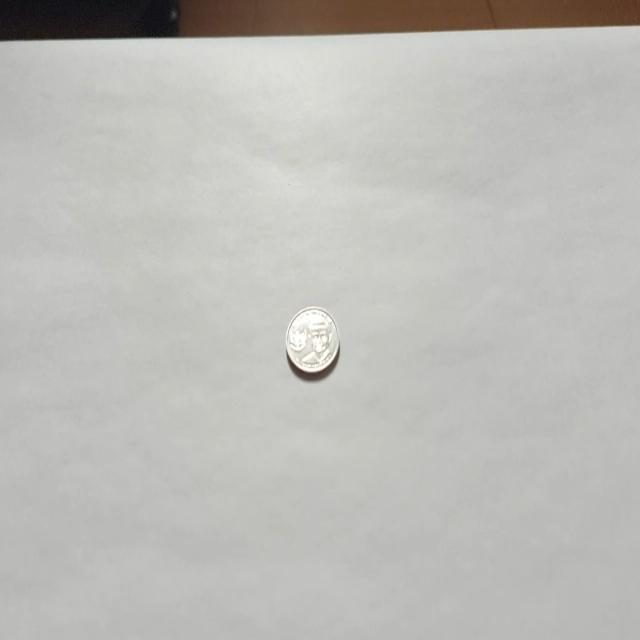seribu rupiah koin: (284, 304, 340, 375)
